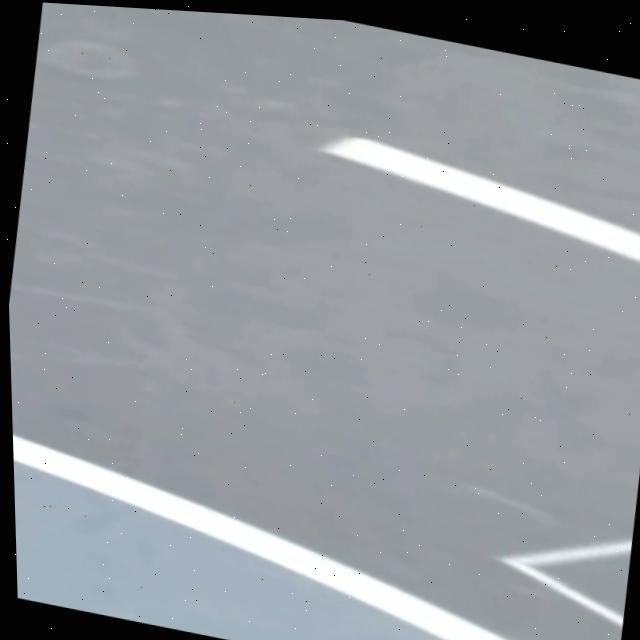center: (320, 139, 640, 263)
left: (13, 437, 506, 640)
